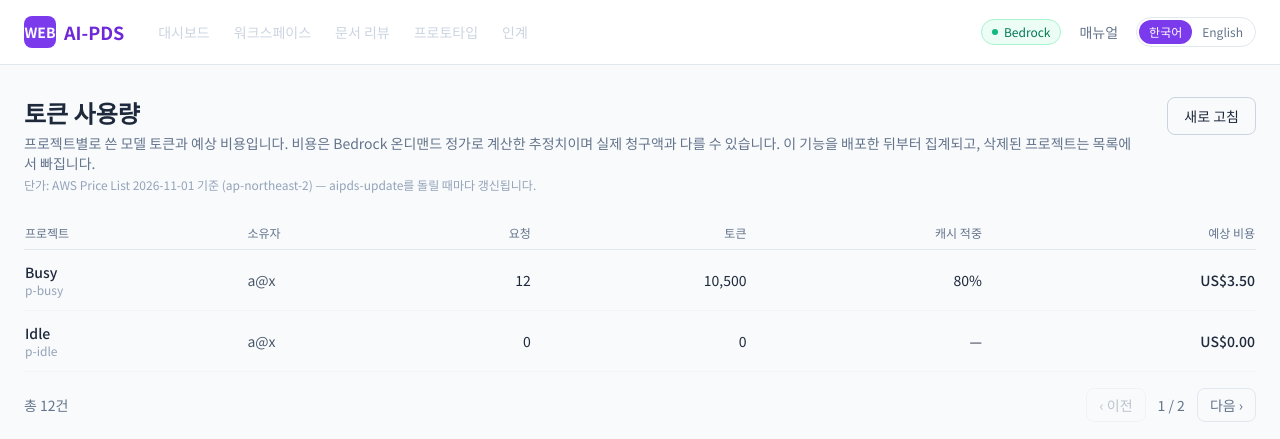
Test: admin usage page › pages through the projects
Check: the text "1 / 2" is shown, box [1158, 395, 1185, 415]
Check: the text "총 12건" is shown, box [24, 395, 68, 415]
Click the button "다음 ›" at (1226, 405), box [1197, 388, 1256, 422]
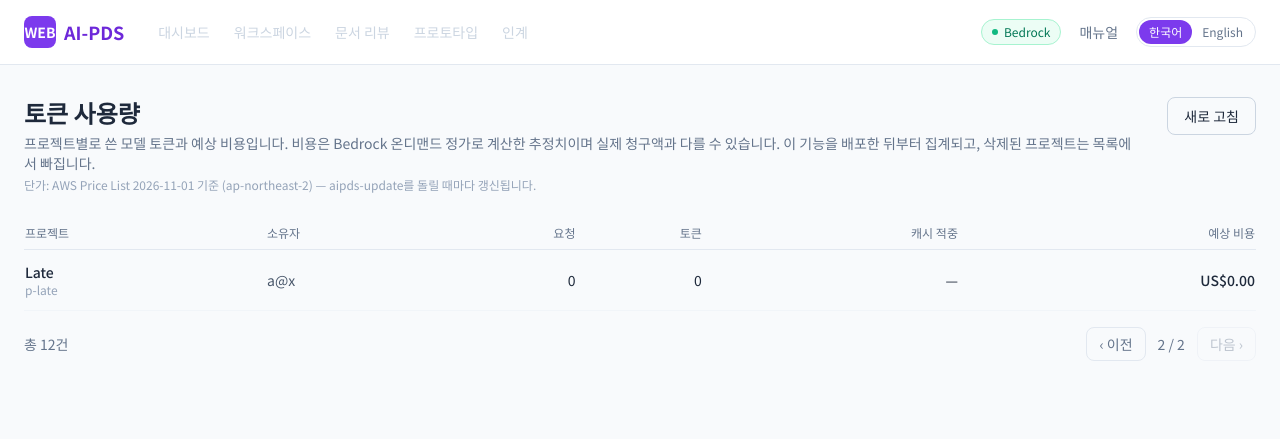
Check: the text "Late" is shown, box [25, 262, 54, 282]
Check: the text "2 / 2" is shown, box [1158, 334, 1185, 354]
